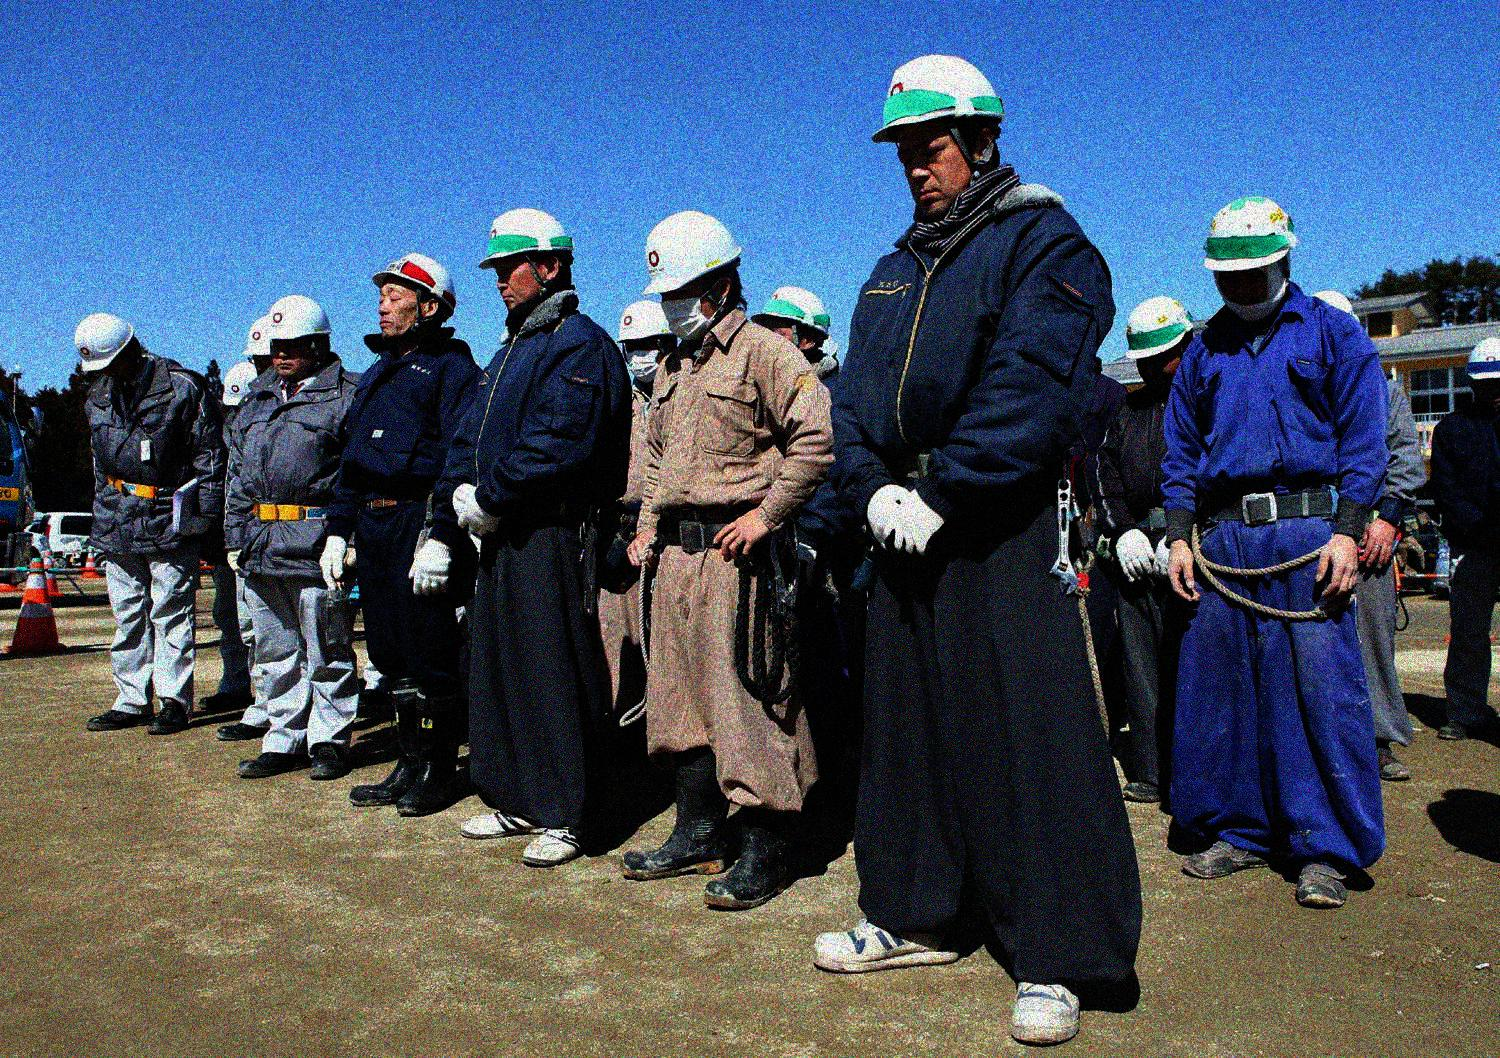helmet: (869, 52, 1006, 214), (645, 207, 745, 340), (1203, 194, 1301, 319), (479, 206, 581, 310), (370, 248, 459, 340), (747, 281, 835, 363), (1124, 293, 1195, 394), (265, 291, 335, 382), (73, 310, 152, 390), (618, 297, 681, 380), (1462, 335, 1500, 411), (246, 311, 281, 381), (220, 357, 260, 414)
